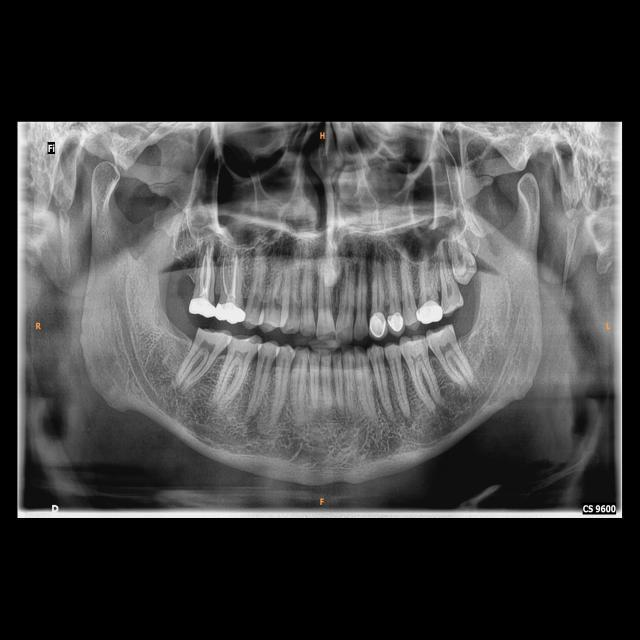kanal-tedavisi: (216, 251, 241, 301), (197, 239, 217, 296)
kaplama: (214, 295, 247, 324), (415, 298, 445, 328), (190, 291, 216, 320), (384, 304, 408, 334), (369, 308, 386, 337)
